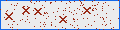x: (21, 6, 30, 16), (82, 6, 91, 15), (59, 16, 68, 25), (34, 7, 42, 16), (5, 12, 13, 21)
